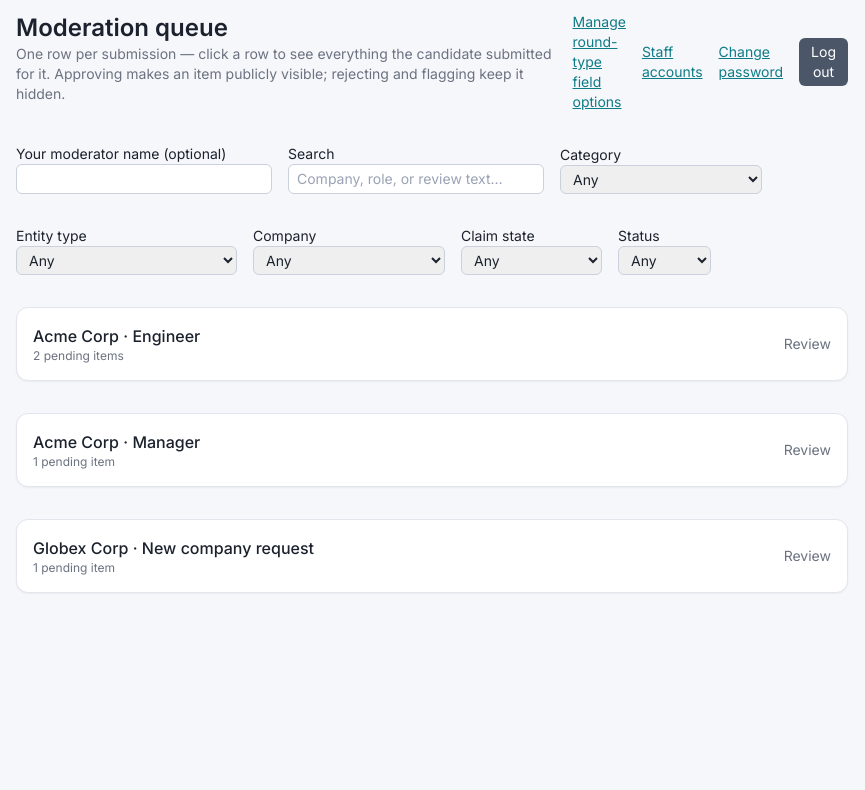
Test: ModerationPage (Phase 14 issue #128; session gating Phase 18 issue #160; grouped-by-submission Phase 29 issue #315) › expanding a company creation request reveals its requested slug/size/industry
Click the button "Globex Corp · New company request 1 pending item Review" at (81, 548), box x1=33 y1=536 x2=831 y2=576
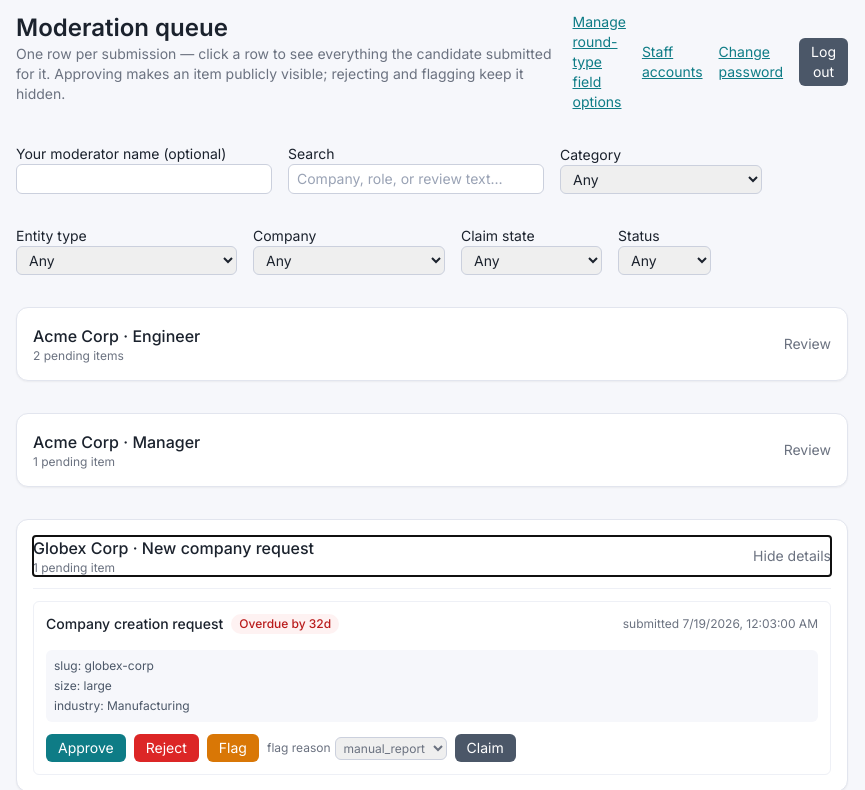
Check: the heading "Company creation request" is shown, box x1=46 y1=614 x2=223 y2=634
Check: the text "slug: globex-corp" is shown, box x1=54 y1=658 x2=154 y2=673
Check: the text "size: large" is shown, box x1=54 y1=678 x2=112 y2=693
